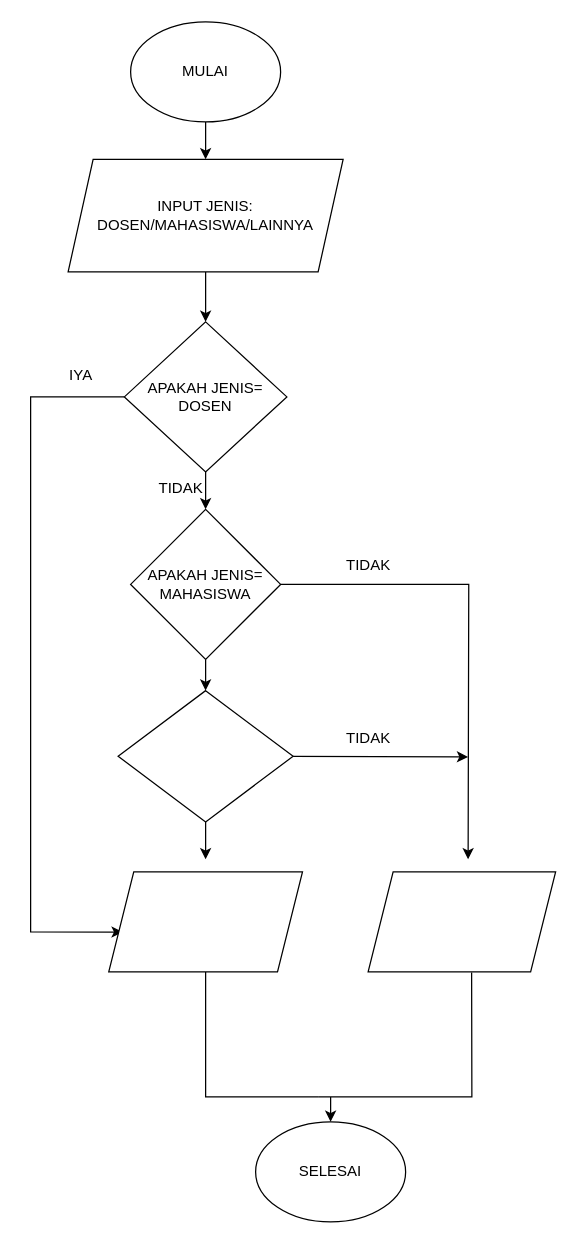
The diagram is 578 pixels wide and 1244 high, and some of its shapes have lost their labels. Each missing label, with the centre of its shape:
"APAKAH >= SKS 12" belongs at point 205,755.
"PRINT AKSES WIFI DIBERIKAN" belongs at point 205,921.
"PRINT AKSES WIFI DITOLAK" belongs at point 461,921.
